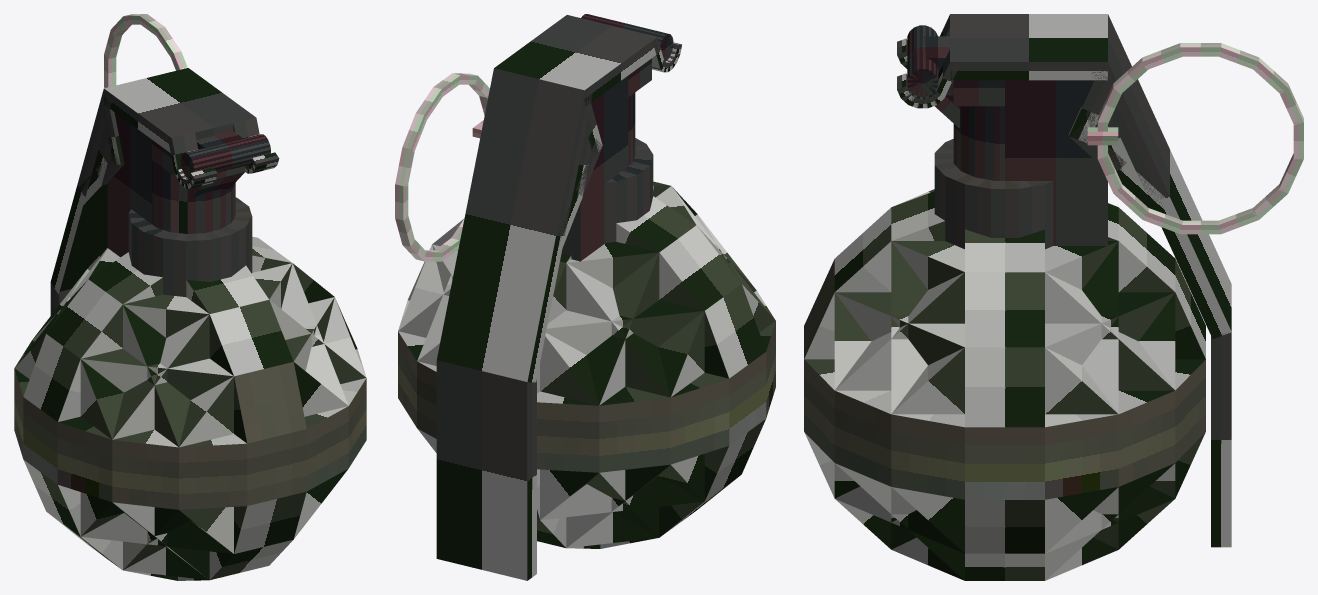
3 views of the same model, side by side, from view 1: azimuth 30°, elevation 25°; view 2: azimuth 150°, elevation 25°; view 3: azimuth 270°, elevation 25° (orthographic). The views are drawn at different scales.
Visible parts, largest first — view 1: _gltfNode_0; view 2: _gltfNode_0; view 3: _gltfNode_0.
Part boxes in pixels (x1=…): _gltfNode_0: x1=14, y1=14, x2=366, y2=580; _gltfNode_0: x1=395, y1=14, x2=775, y2=580; _gltfNode_0: x1=804, y1=14, x2=1303, y2=580.
Size of the model in its own units: 488 by 725 by 606.
